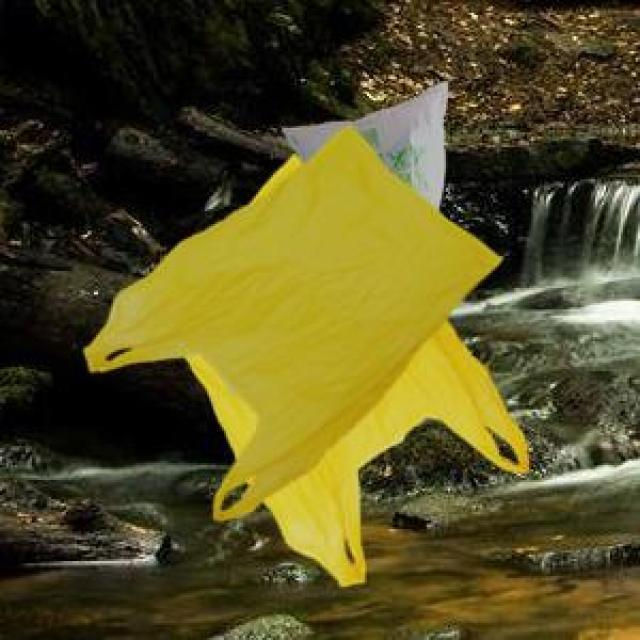waste: (85, 128, 529, 585), (367, 99, 444, 194)
